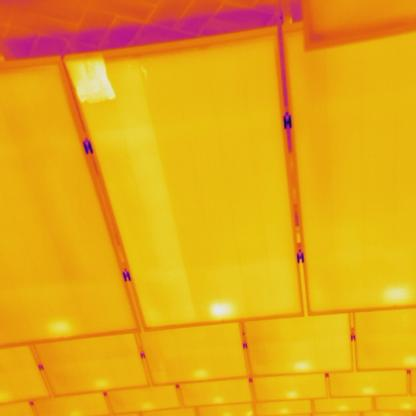hotspot: (64, 51, 118, 103), (208, 298, 238, 324)
